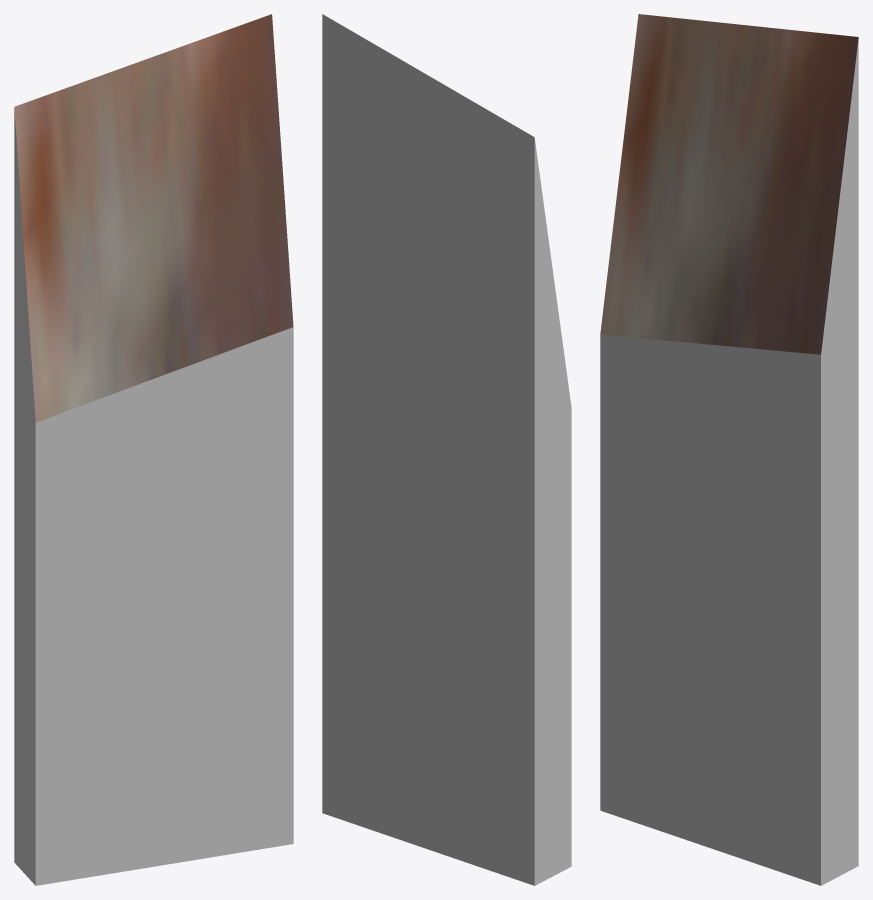
The model's file is DEBW_0010007THY8.gltf.
3 views of the same model, side by side, from view 1: azimuth 30°, elevation 25°; view 2: azimuth 150°, elevation 25°; view 3: azimuth 330°, elevation 25° (orthographic). The views are drawn at different scales.
Parts seen in each view (by area): view 1: Z_UP; view 2: Z_UP; view 3: Z_UP.
Part boxes in pixels (x1,y1,x2,y2): Z_UP: [14, 14, 293, 885]; Z_UP: [322, 14, 571, 885]; Z_UP: [600, 14, 858, 885].
Size of the model in its own units: 6.11 by 19.31 by 2.2.
2 materials, 1 textured.
